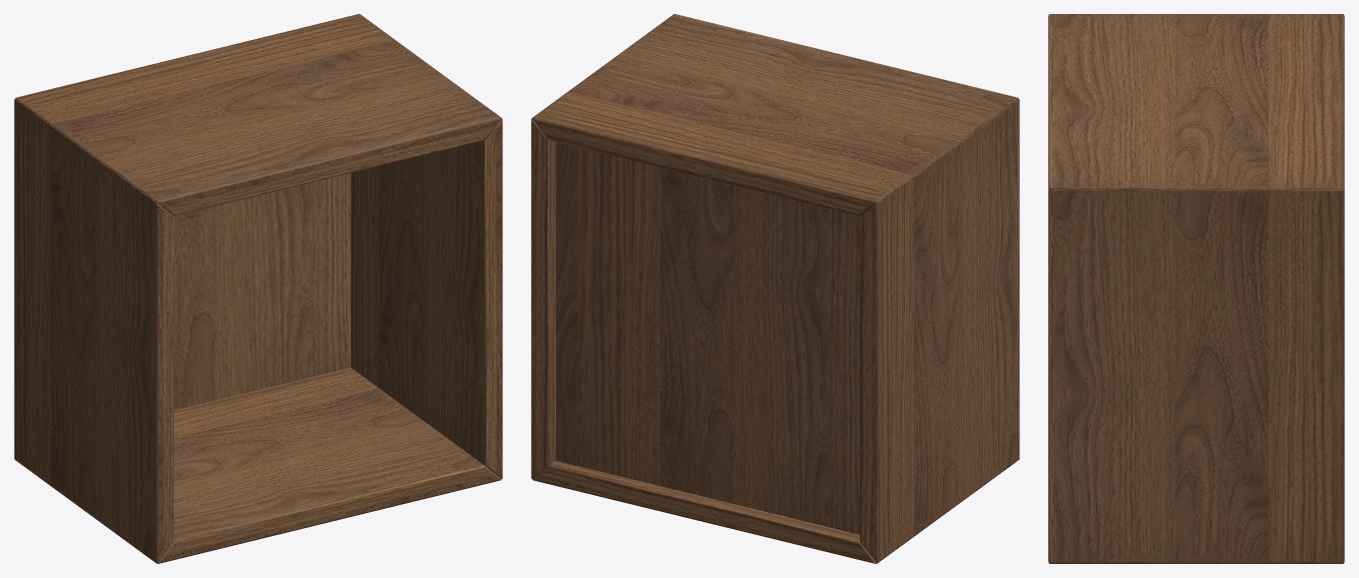
3 views of the same model, side by side, from view 1: azimuth 30°, elevation 25°; view 2: azimuth 150°, elevation 25°; view 3: azimuth 270°, elevation 25° (orthographic). The views are drawn at different scales.
Visible parts, largest first — view 1: Mesh_0; view 2: Mesh_0; view 3: Mesh_0.
Part boxes in pixels (left/top/right/bottom): Mesh_0: left=14, top=14, right=502, bottom=563; Mesh_0: left=531, top=14, right=1019, bottom=563; Mesh_0: left=1048, top=14, right=1344, bottom=563.
Size of the model in its own units: 0.35 by 0.35 by 0.25.
Materials: 2 (2 with a texture image).
